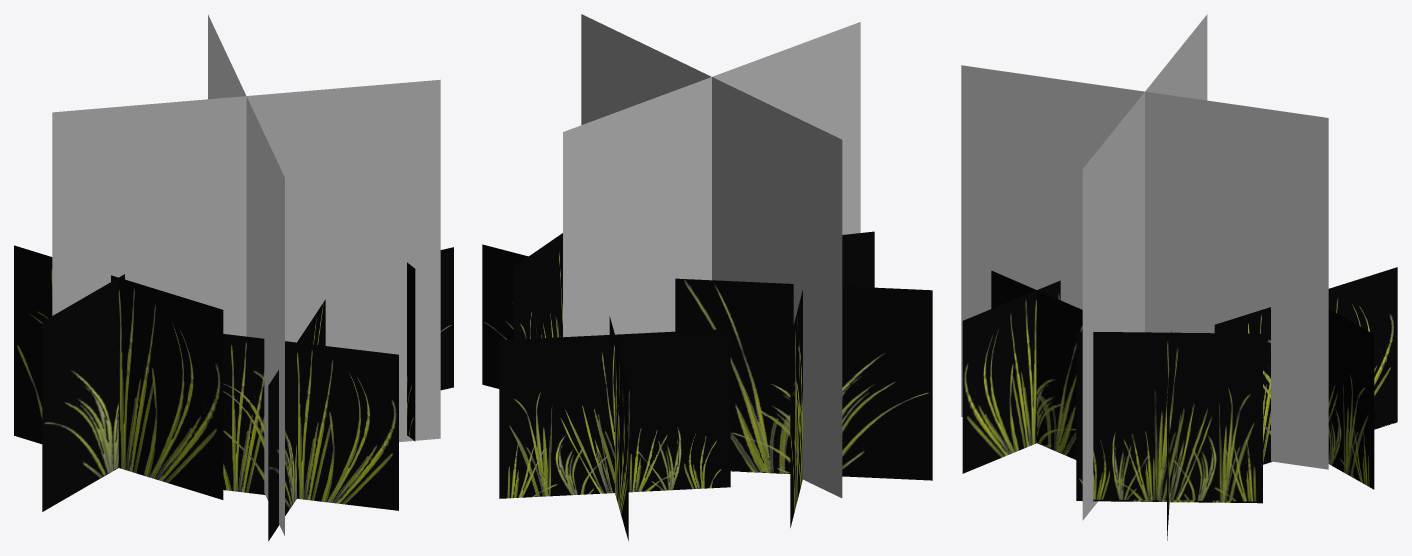
Rendered from grass_flower_patch3.fbx.
The picture shows the model from 3 angles, left to right: view 1: azimuth 30°, elevation 25°; view 2: azimuth 150°, elevation 25°; view 3: azimuth 270°, elevation 25°; orthographic projection. The views are drawn at different scales.
Visible parts, largest first — view 1: Plane.005, Plane.001; view 2: Plane.005, Plane.001; view 3: Plane.005, Plane.001.
Boxes of the visible parts, x1,y1,x2,y2 form: Plane.005: (52, 14, 440, 535); Plane.001: (14, 245, 453, 541); Plane.005: (563, 14, 860, 497); Plane.001: (482, 231, 932, 540); Plane.005: (961, 14, 1328, 520); Plane.001: (962, 267, 1397, 540).
Bounding box in the file's own units: 47 × 37.63 × 42.06.
